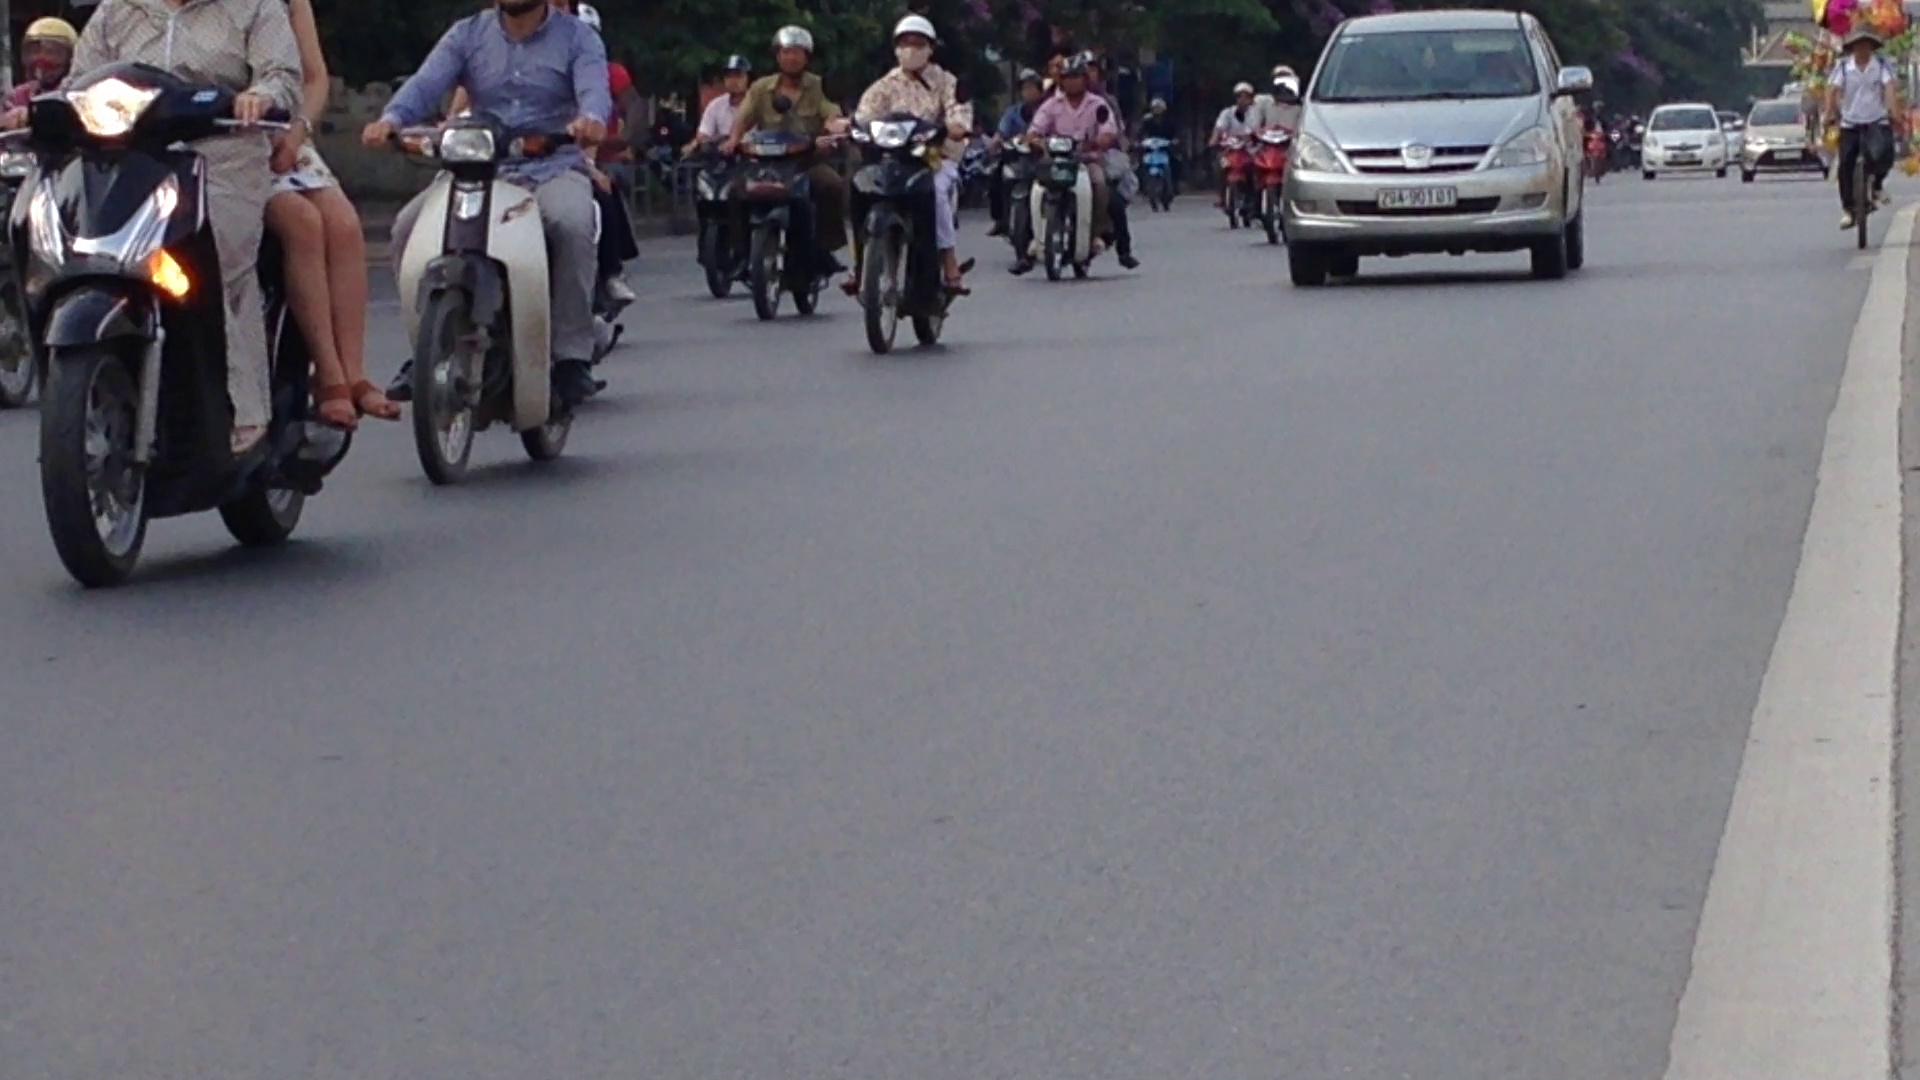person: (1371, 183, 1458, 211)
